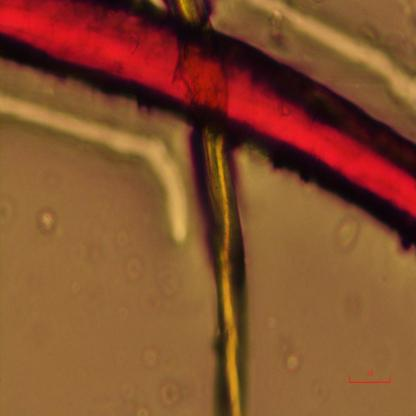Air bubble: (0, 91, 189, 243), (260, 0, 416, 115)
Background material: (31, 201, 60, 239), (336, 214, 363, 250), (158, 379, 188, 407), (137, 340, 164, 369), (123, 253, 143, 282), (288, 356, 302, 375)
Microfibre: (0, 0, 416, 245), (177, 1, 249, 415)
